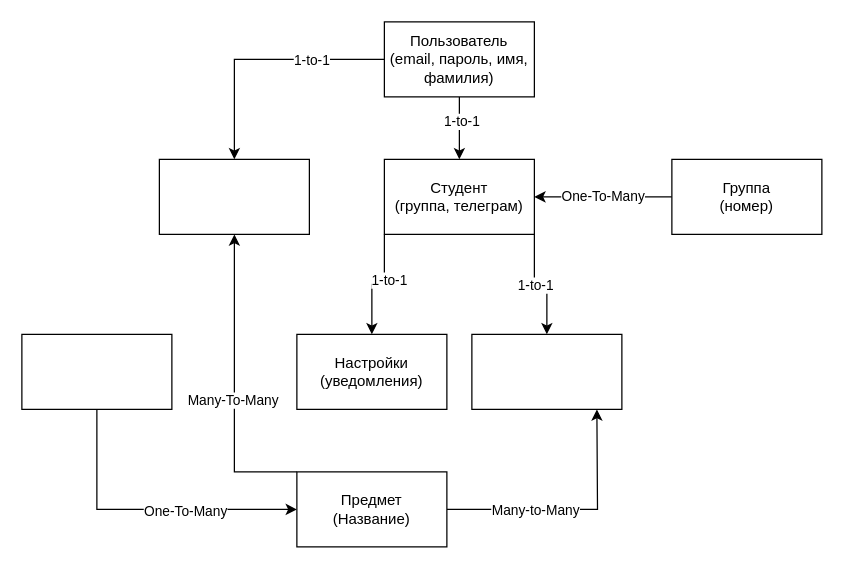
Image size: 844x569. Some labels were removed from this diagram. The shapes that lost their labels are listed below. From the top down, each one's box as (x1, y1, x2, y2) in pixels, then its label:
(158, 158, 309, 234): Преподаватель
(21, 333, 172, 409): Кафедра (Название)
(471, 333, 622, 409): РУП (дедлайн)
